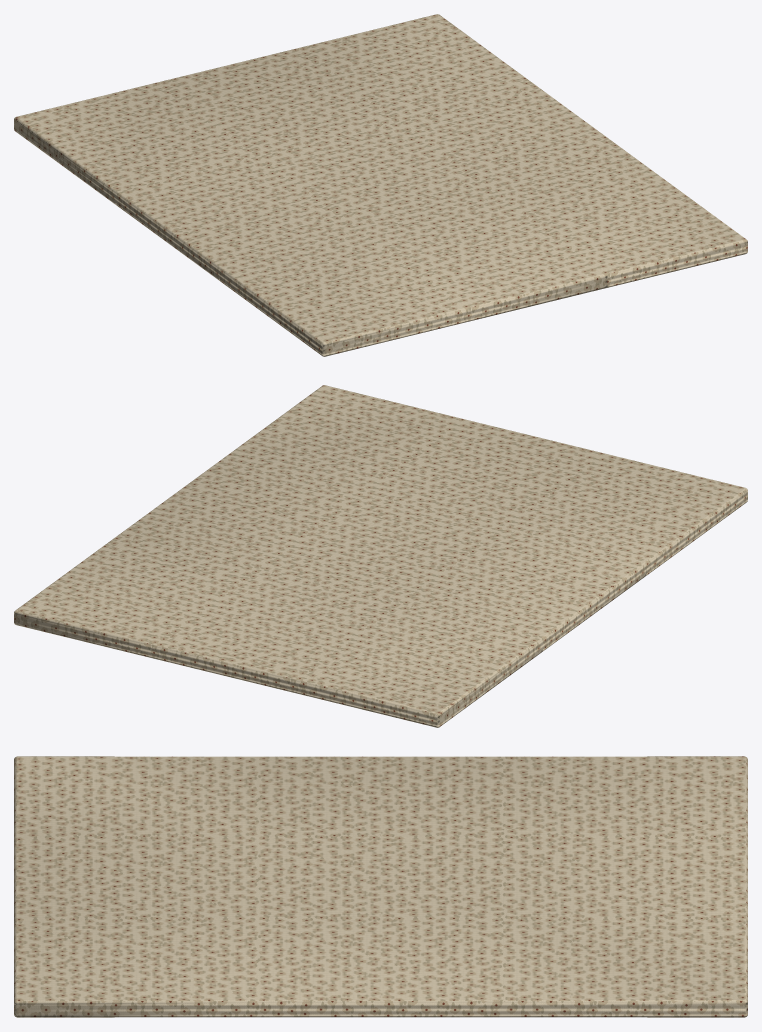
Rendered from DemMong.glb.
3 renders of one model, top to bottom at view 1: azimuth 30°, elevation 25°; view 2: azimuth 150°, elevation 25°; view 3: azimuth 270°, elevation 25°, orthographic. The views are drawn at different scales.
Parts seen in each view (by area): view 1: geometry_0; view 2: geometry_0; view 3: geometry_0.
Boxes of the visible parts, x1,y1,x2,y2 form: geometry_0: (14, 14, 747, 356); geometry_0: (14, 385, 747, 727); geometry_0: (14, 756, 747, 1017).
Bounding box in the file's own units: 1.53 × 0.0563 × 1.93.
2 materials, 1 textured.
